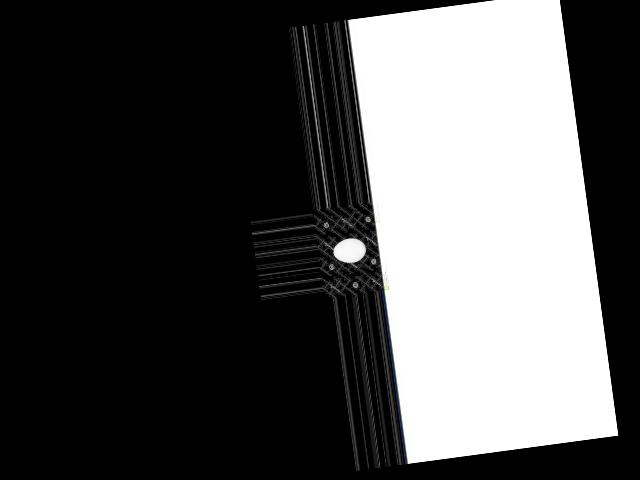egg: (332, 235, 367, 264)
